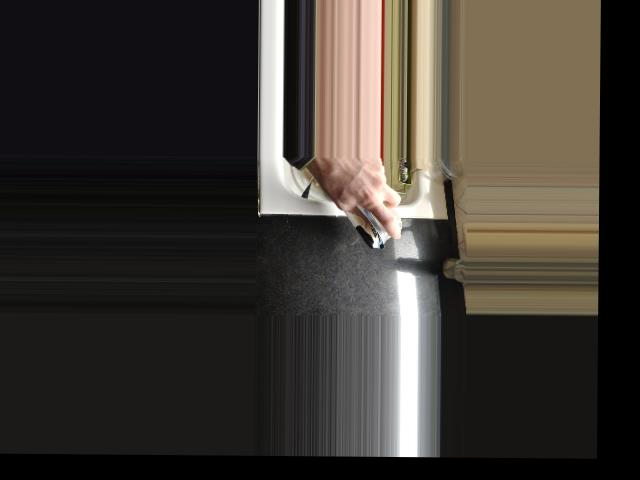cheese: (331, 161, 398, 252)
